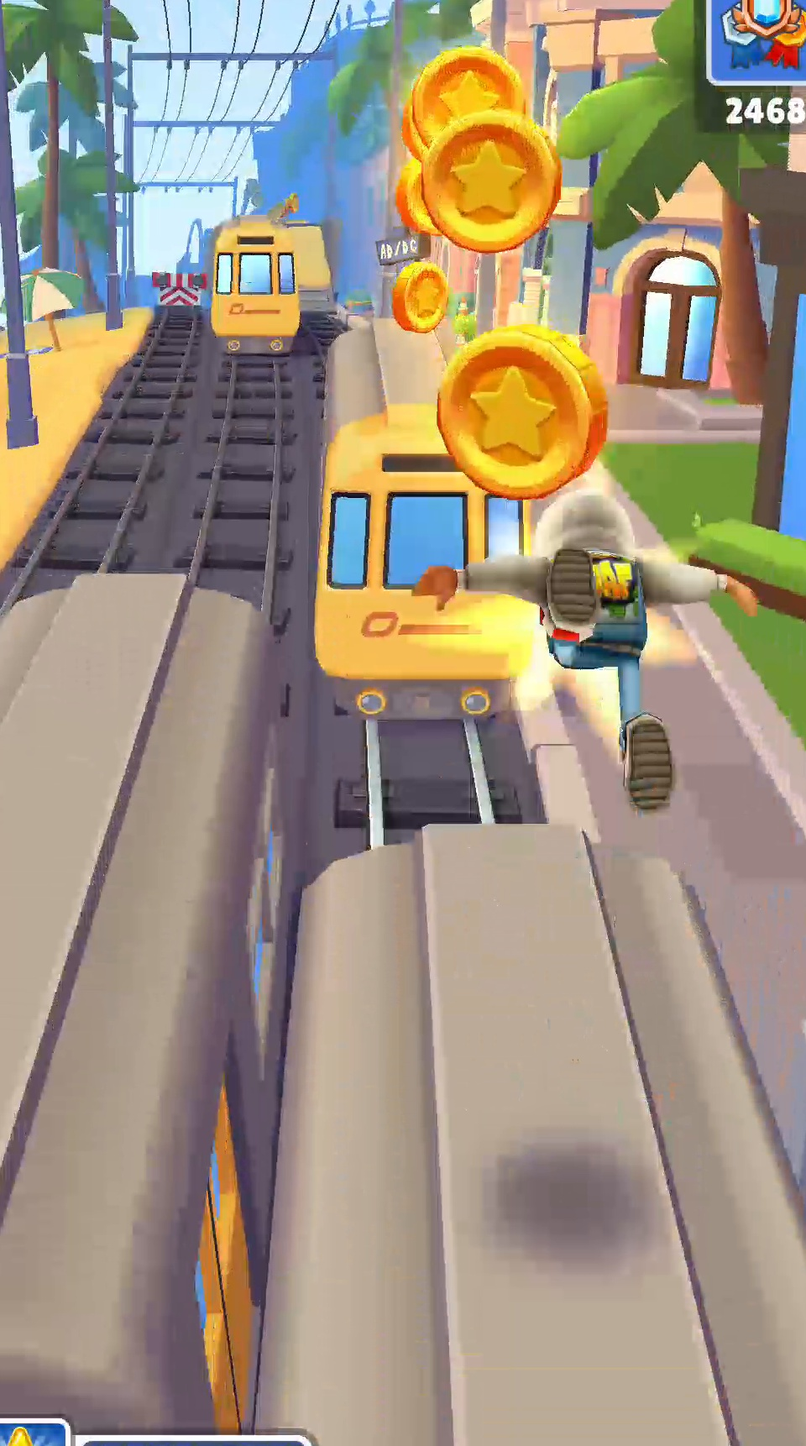climber: (280, 221, 334, 311)
roll blocker: (152, 272, 207, 306)
train: (315, 320, 536, 726), (211, 219, 300, 352)
